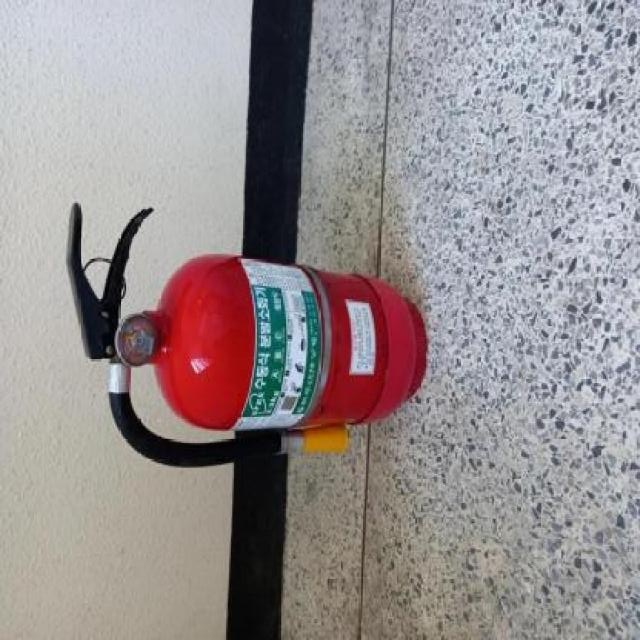fire extinguisher: (65, 201, 428, 468)
